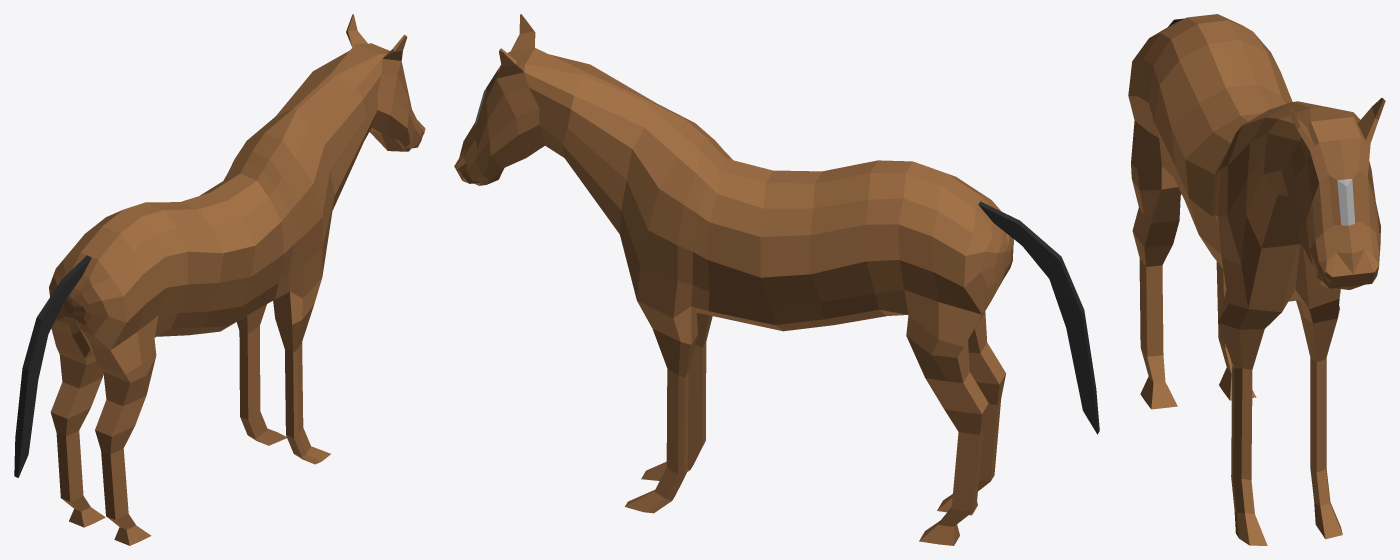
The model's file is horse.glb.
3 renders of one model, left to right at view 1: azimuth 30°, elevation 25°; view 2: azimuth 150°, elevation 25°; view 3: azimuth 270°, elevation 25°, orthographic. The views are drawn at different scales.
Visible parts, largest first — view 1: Plane; view 2: Plane; view 3: Plane.
Boxes of the visible parts, bbox=[...] form: Plane: bbox=[14, 14, 425, 545]; Plane: bbox=[454, 14, 1099, 545]; Plane: bbox=[1128, 14, 1385, 545].
Size of the model in its own units: 2.74 by 2.12 by 0.9933.
